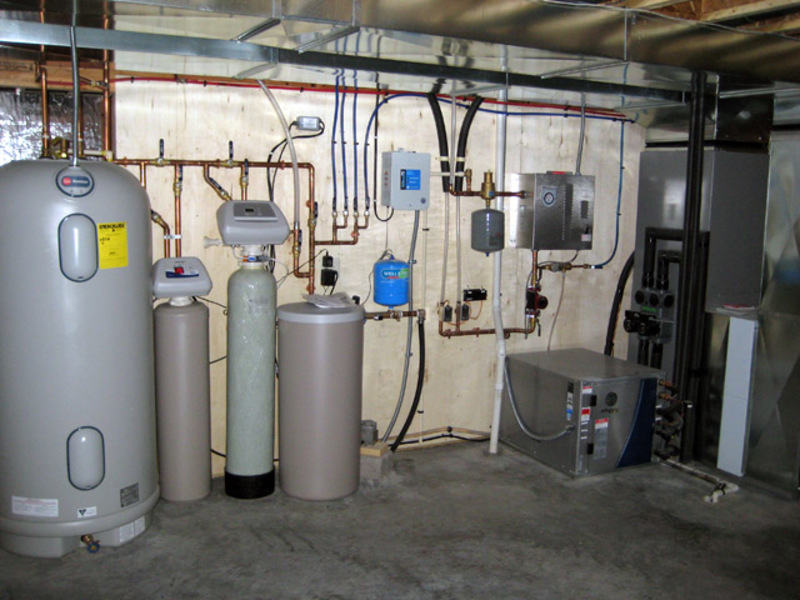valve: (160, 162, 189, 201), (198, 176, 234, 204), (238, 149, 255, 194), (219, 137, 239, 171), (302, 194, 321, 229), (524, 315, 545, 341), (290, 225, 304, 261), (154, 135, 168, 169)
